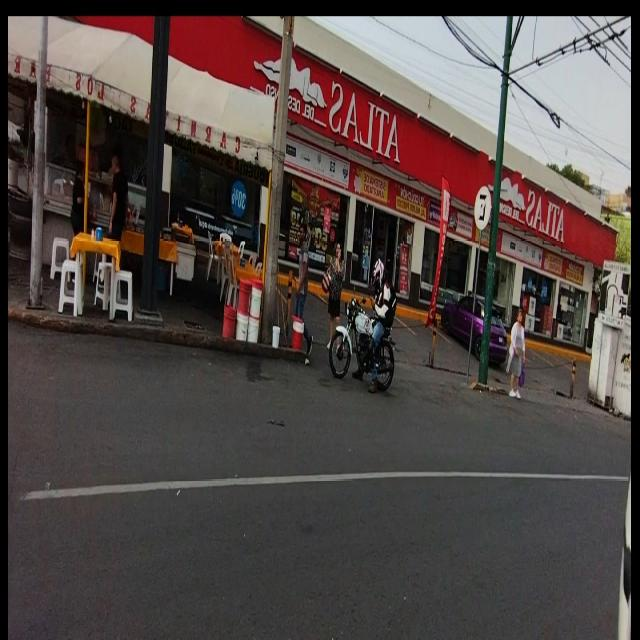adult: (368, 257, 392, 391), (295, 220, 312, 356), (326, 240, 345, 350), (110, 152, 130, 242), (509, 306, 526, 400), (70, 160, 85, 233)
